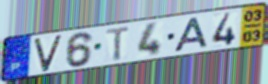4: (135, 20, 165, 57), (210, 11, 237, 47)
6: (65, 30, 94, 68)
A: (172, 16, 211, 53)
T: (105, 25, 132, 63)
V: (33, 33, 64, 74)
